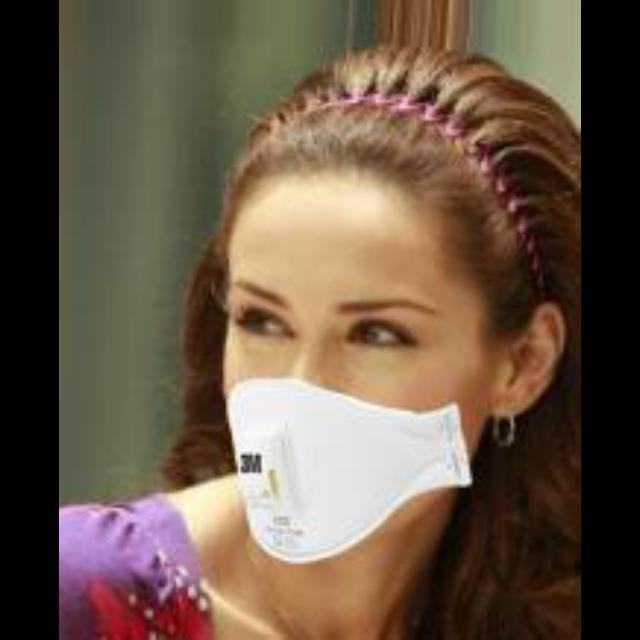suspicion: (196, 114, 556, 554)
